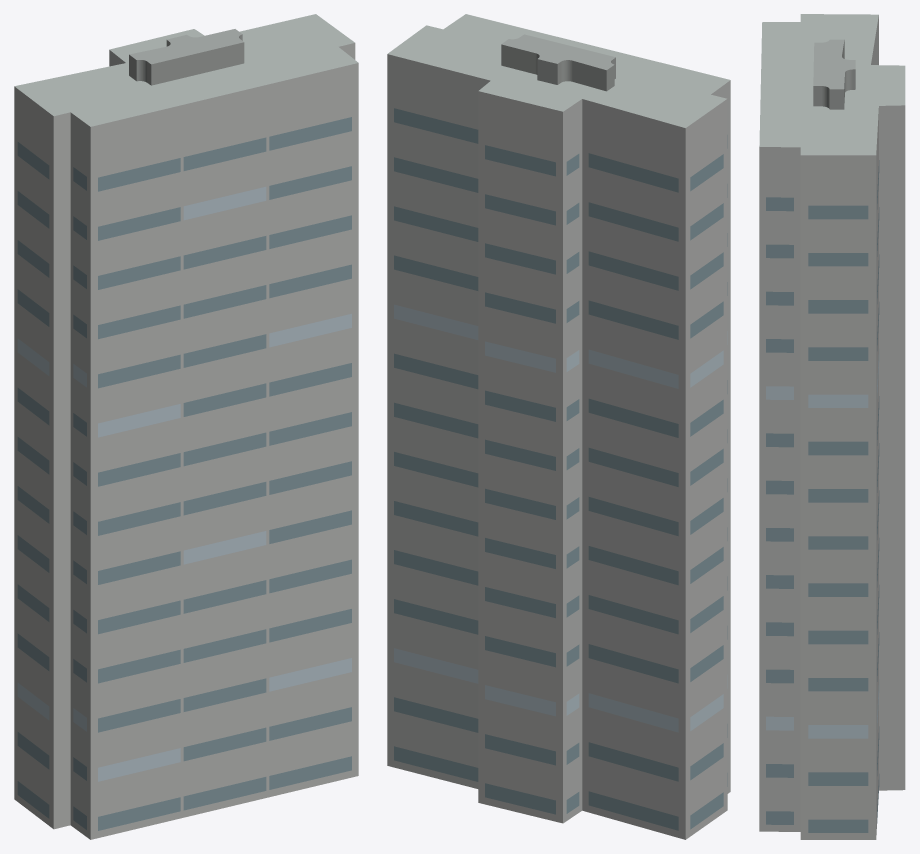
The model's file is fallback-gangdong-lotte-castle-first-135.glb.
3 renders of one model, left to right at view 1: azimuth 30°, elevation 25°; view 2: azimuth 150°, elevation 25°; view 3: azimuth 270°, elevation 25°, orthographic. The views are drawn at different scales.
Visible parts, largest first — view 1: fallback-gangdong-lotte-castle-first-135; view 2: fallback-gangdong-lotte-castle-first-135; view 3: fallback-gangdong-lotte-castle-first-135.
Boxes of the visible parts, x1,y1,x2,y2 form: fallback-gangdong-lotte-castle-first-135: (14,14,358,839); fallback-gangdong-lotte-castle-first-135: (387,14,730,839); fallback-gangdong-lotte-castle-first-135: (759,14,905,839).
Bounding box in the file's own units: 35.75 × 83 × 15.66.
